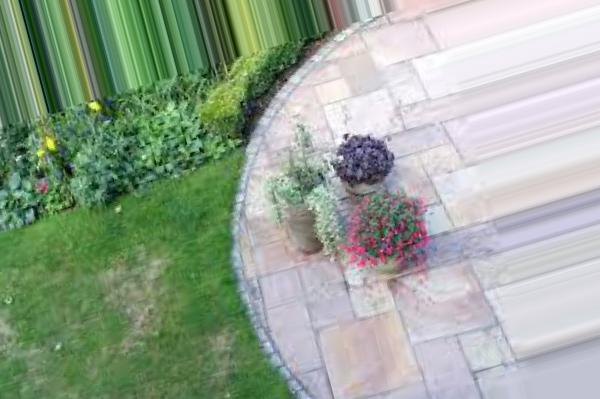patch: (118, 266, 157, 325), (209, 335, 232, 374), (7, 322, 30, 360)
